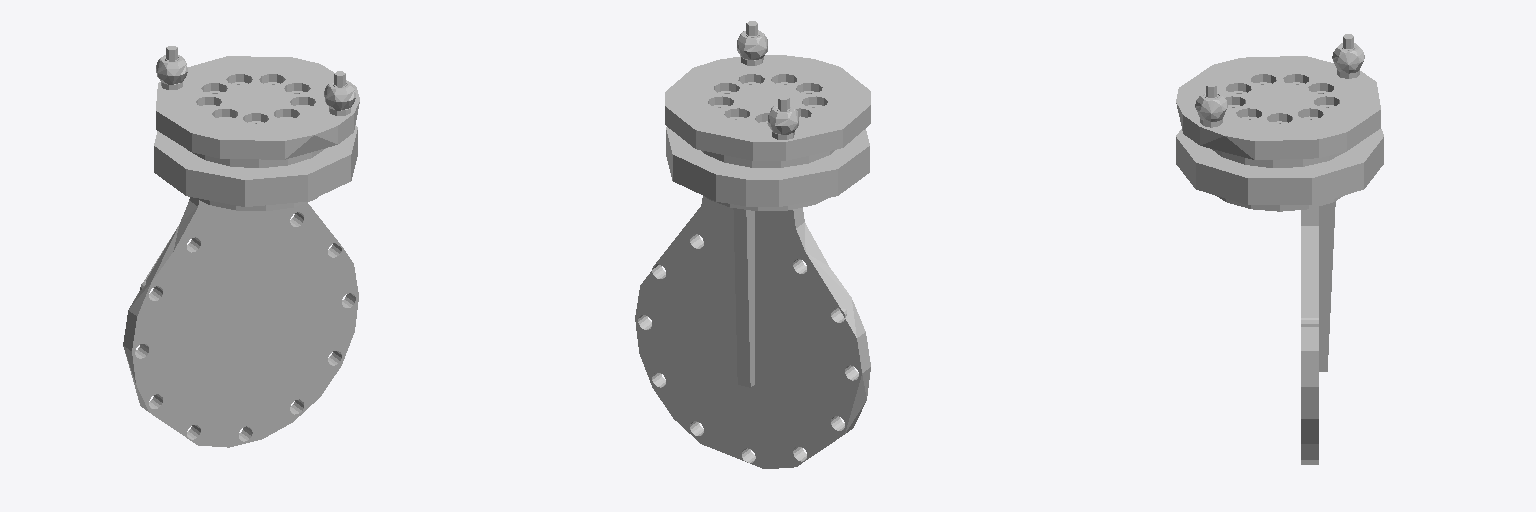
File: legl_hip2_joint.obj
3 views of the same model, side by side, from view 1: azimuth 30°, elevation 25°; view 2: azimuth 150°, elevation 25°; view 3: azimuth 270°, elevation 25° (orthographic).
Size of the model in its own units: 0.088 by 0.1445 by 0.07.